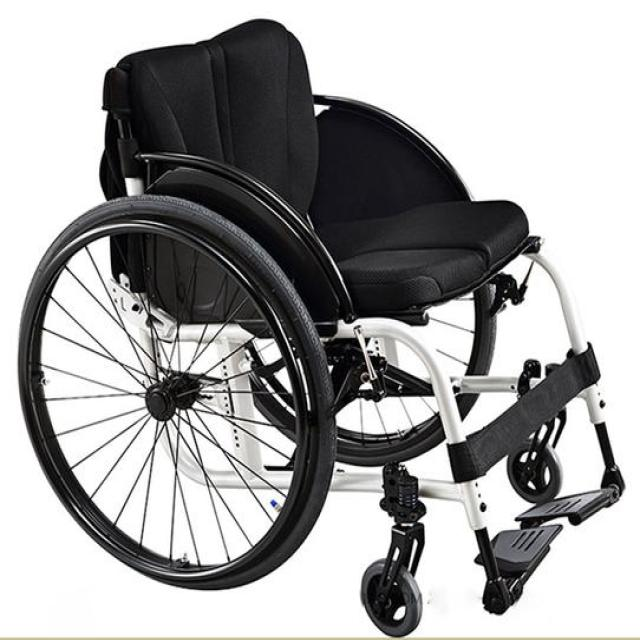wheelchairs: (10, 18, 628, 640)
